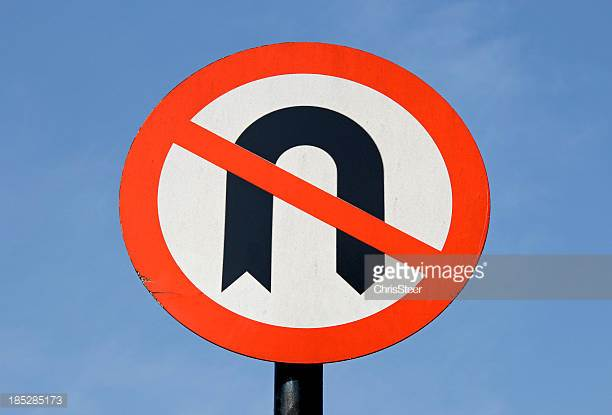No_u_turn: (118, 41, 491, 363)
